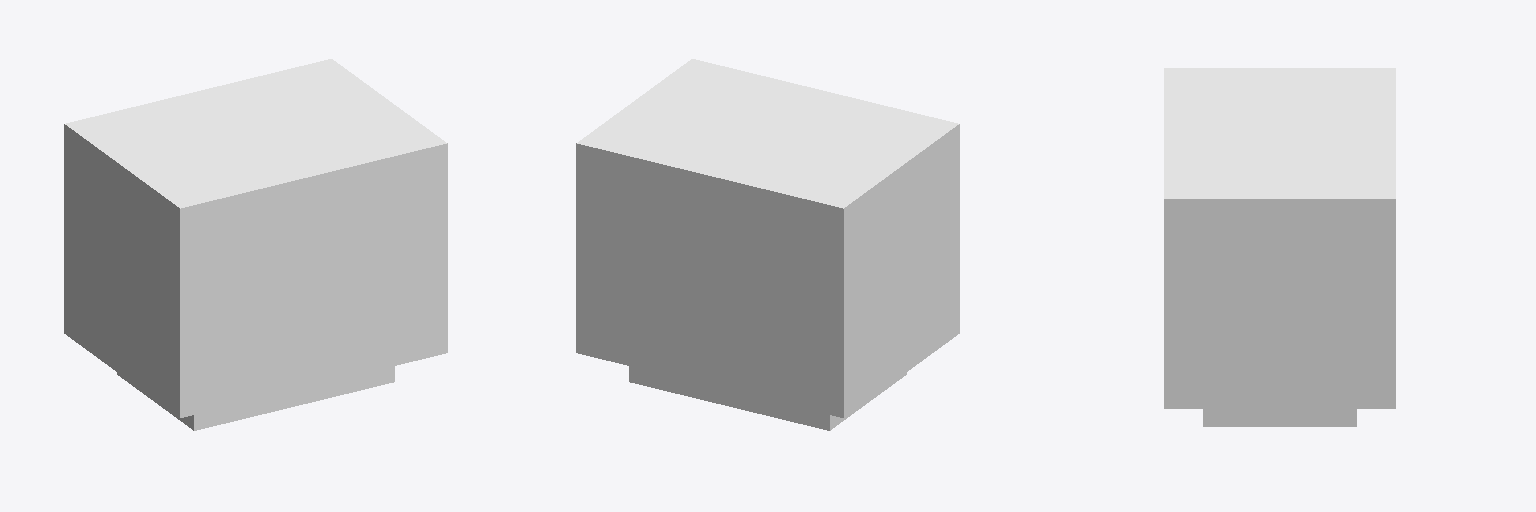
Rendered from civil3-4.obj.
3 renders of one model, left to right at view 1: azimuth 30°, elevation 25°; view 2: azimuth 150°, elevation 25°; view 3: azimuth 270°, elevation 25°, orthographic.
Visible parts, largest first — view 1: object 1; view 2: object 1; view 3: object 1.
Boxes of the visible parts, x1=… form: object 1: x1=64, y1=59, x2=447, y2=430; object 1: x1=576, y1=59, x2=959, y2=430; object 1: x1=1164, y1=68, x2=1395, y2=426.
Size of the model in its own units: 0.8 by 0.7 by 0.6.